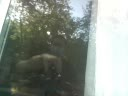window: (4, 3, 123, 94)
